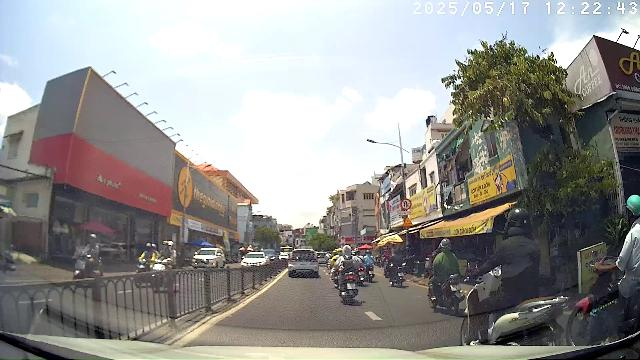124b-cam-oto-quay-dau-xe: (401, 198, 412, 209)
